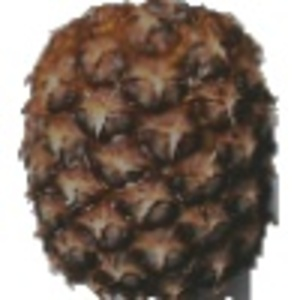abacaxi: (13, 2, 284, 298)
